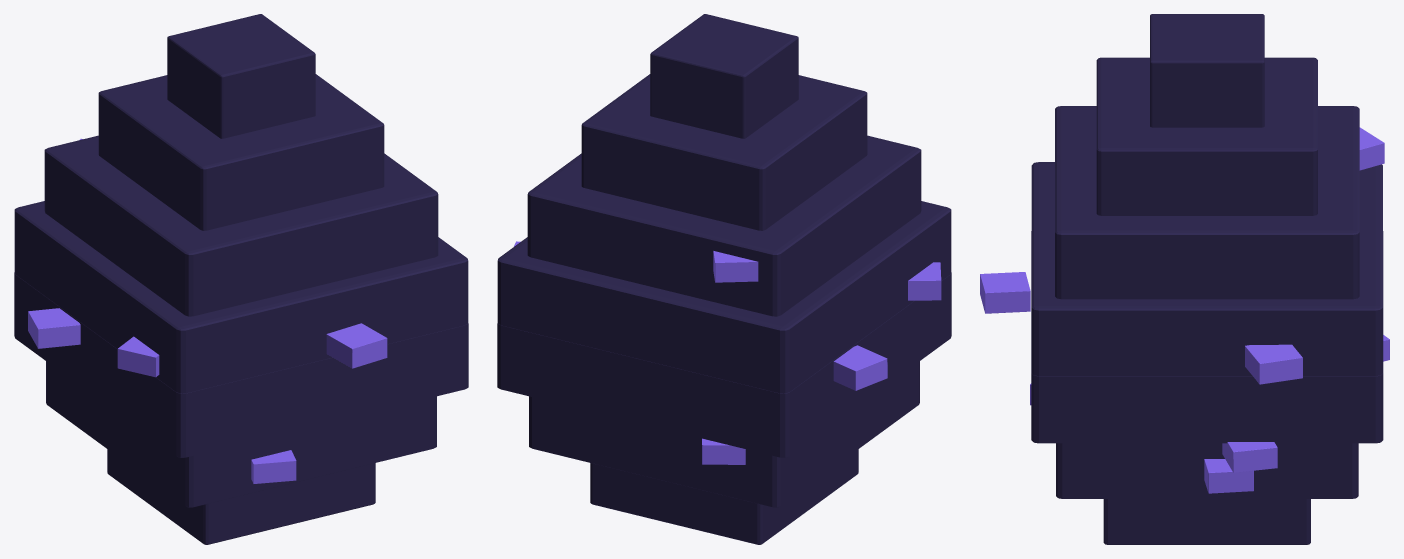
The model's file is egg-cosmic.glb.
The picture shows the model from 3 angles, left to right: view 1: azimuth 30°, elevation 25°; view 2: azimuth 150°, elevation 25°; view 3: azimuth 270°, elevation 25°; orthographic projection. The views are drawn at different scales.
Visible parts, largest first — view 1: body; view 2: body; view 3: body.
Part boxes in pixels (x1=…): body: x1=14, y1=14, x2=468, y2=544; body: x1=497, y1=14, x2=951, y2=544; body: x1=980, y1=14, x2=1389, y2=544.
Size of the model in its own units: 0.8622 by 1 by 0.7995.
